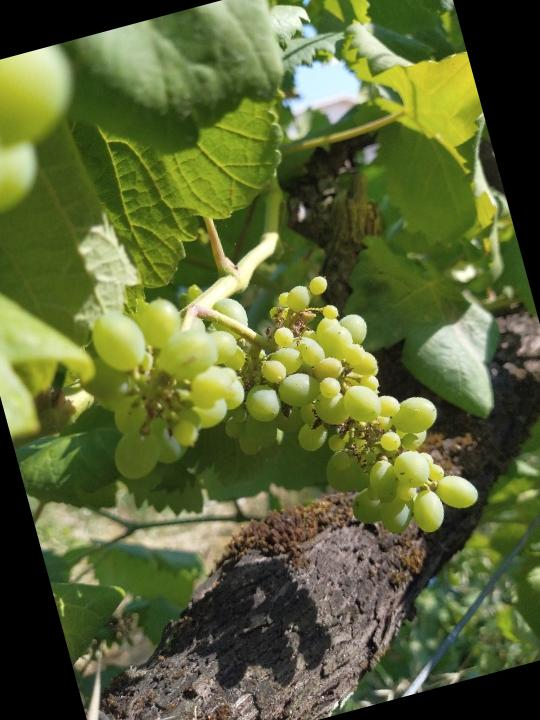grape: (191, 246, 490, 579), (64, 277, 272, 493)
